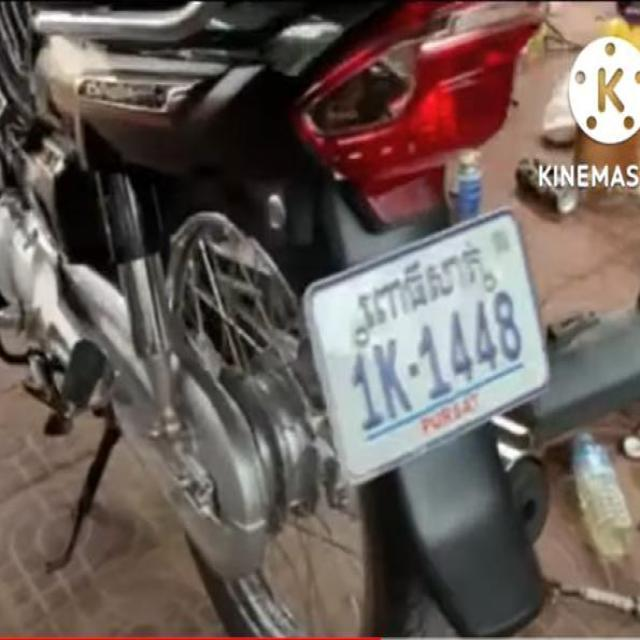Pursat: (361, 239, 488, 329)
